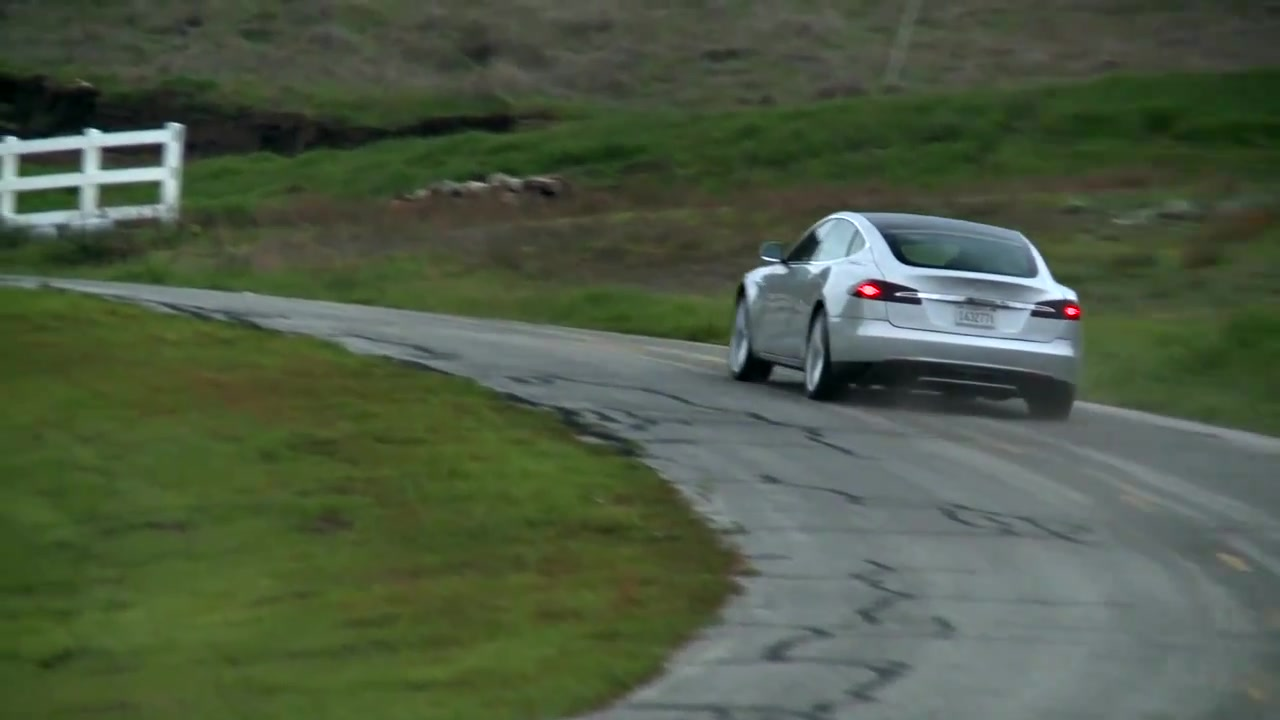car: (727, 206, 1086, 426)
